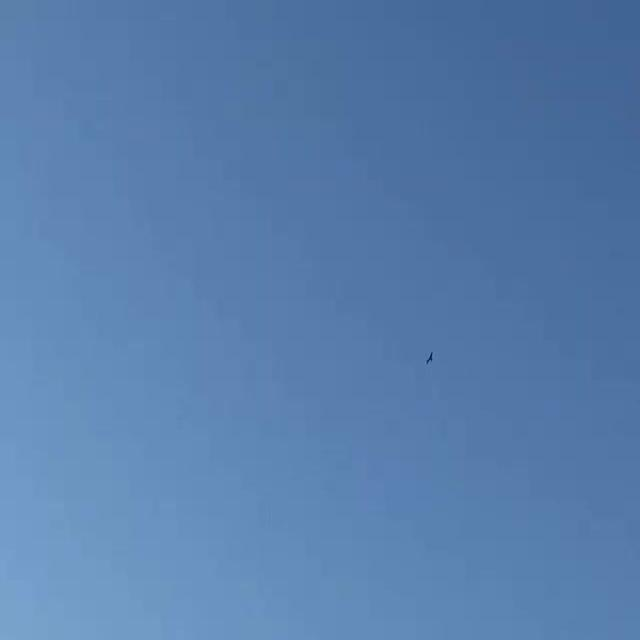bird: (423, 348, 439, 366)
